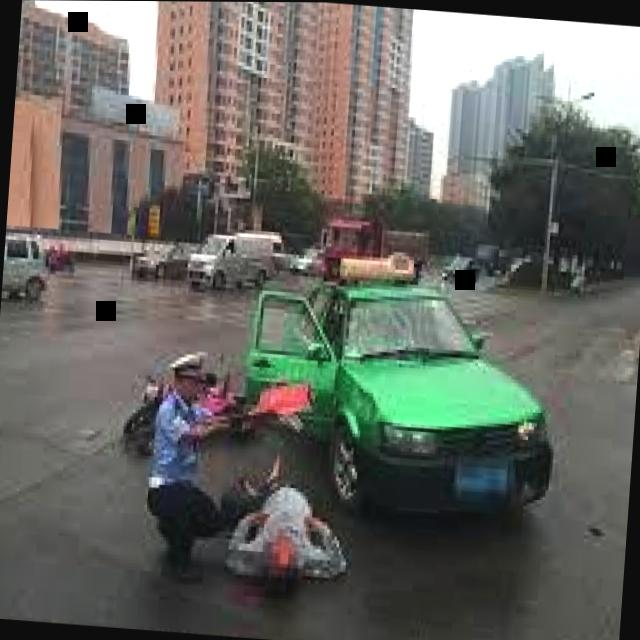Fall-Detected: (217, 440, 358, 599)
